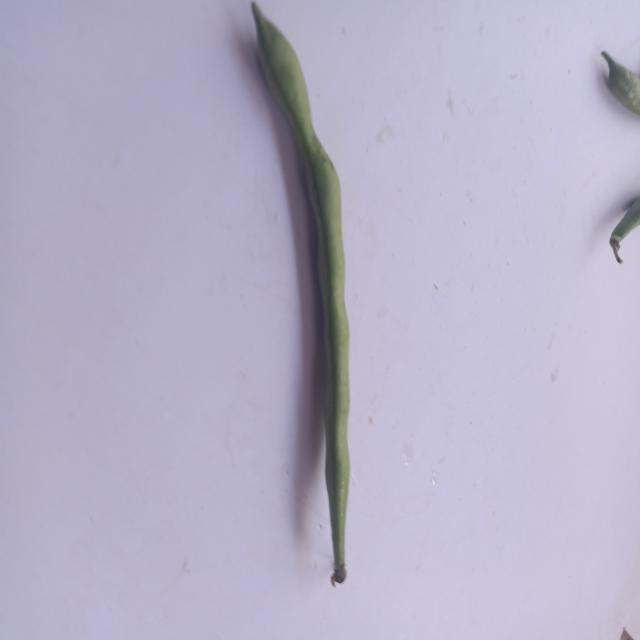Beans: (223, 0, 381, 611)
